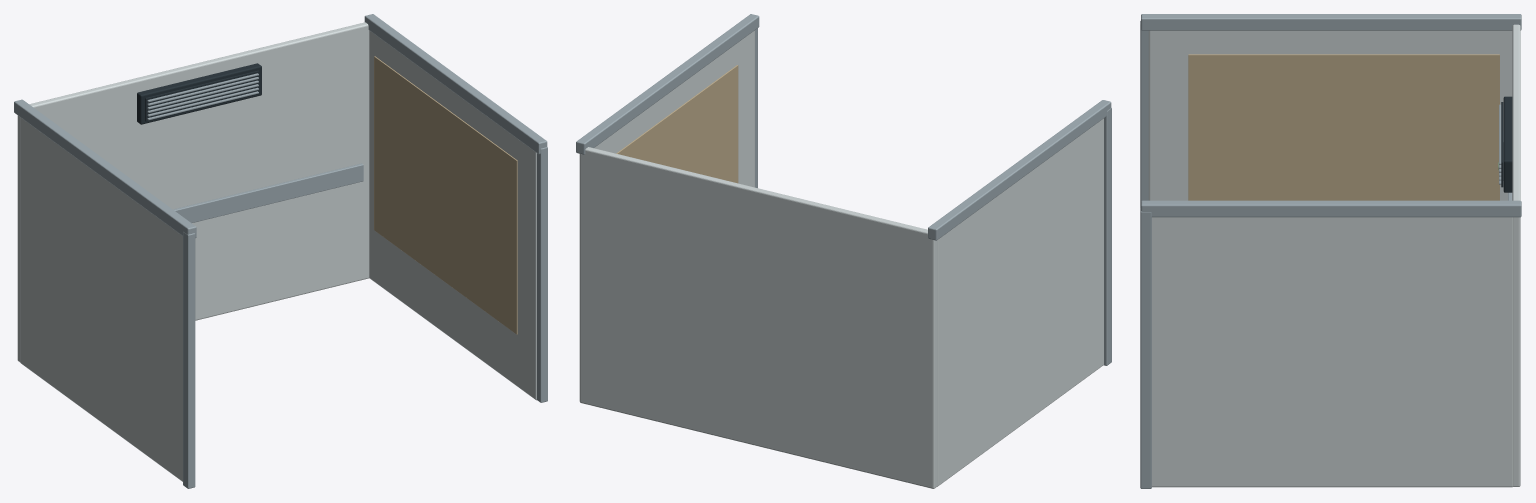
The model's file is RD_LivingAlcove.fbx.
3 views of the same model, side by side, from view 1: azimuth 30°, elevation 25°; view 2: azimuth 150°, elevation 25°; view 3: azimuth 270°, elevation 25° (orthographic). The views are drawn at different scales.
Visible parts, largest first — view 1: RD_LivingAlcove; view 2: RD_LivingAlcove; view 3: RD_LivingAlcove.
Boxes of the visible parts, bbox=[...] form: RD_LivingAlcove: bbox=[14, 14, 547, 488]; RD_LivingAlcove: bbox=[576, 14, 1111, 488]; RD_LivingAlcove: bbox=[1140, 14, 1521, 488].
Bounding box in the file's own units: 356 × 246 × 299.
